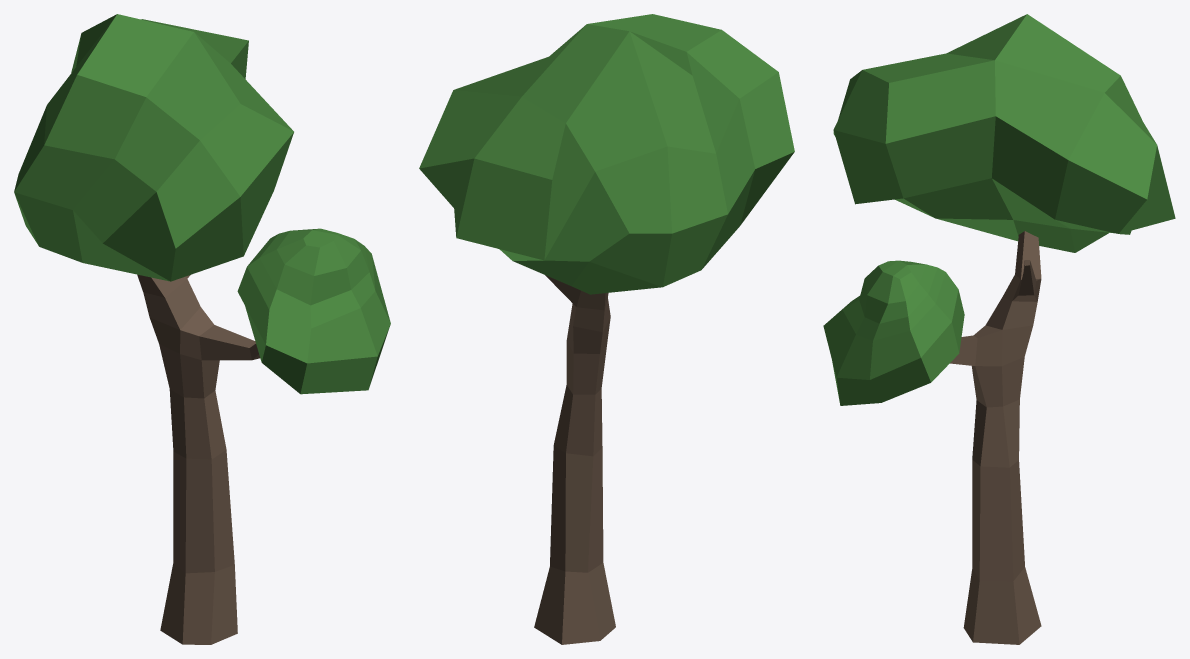
File: Tree_4.fbx
The picture shows the model from 3 angles, left to right: view 1: azimuth 30°, elevation 25°; view 2: azimuth 150°, elevation 25°; view 3: azimuth 270°, elevation 25°; orthographic projection. The views are drawn at different scales.
Parts seen in each view (by area): view 1: Tree_4; view 2: Tree_4; view 3: Tree_4.
Boxes of the visible parts, left/top/right/bottom form: Tree_4: left=14, top=14, right=390, bottom=644; Tree_4: left=419, top=14, right=794, bottom=644; Tree_4: left=823, top=14, right=1175, bottom=644.
Size of the model in its own units: 210 by 224 by 411.
